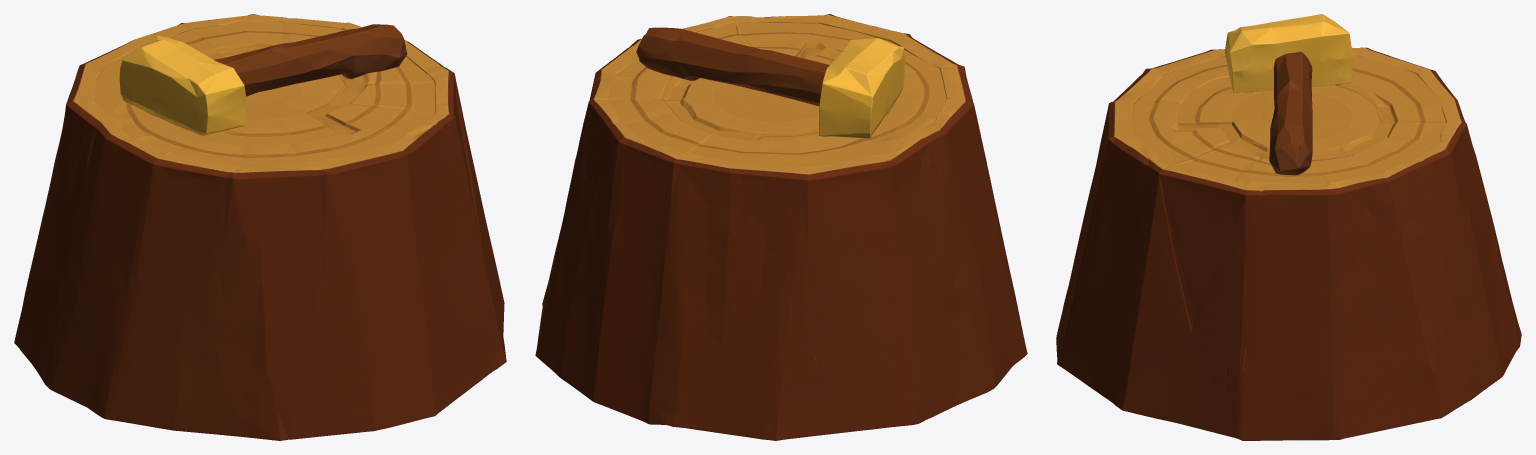
The model's file is carved-stump.glb.
3 views of the same model, side by side, from view 1: azimuth 30°, elevation 25°; view 2: azimuth 150°, elevation 25°; view 3: azimuth 270°, elevation 25° (orthographic). The views are drawn at different scales.
Visible parts, largest first — view 1: bridge-stump-carved-hammer; view 2: bridge-stump-carved-hammer; view 3: bridge-stump-carved-hammer.
Boxes of the visible parts, x1,y1,x2,y2 form: bridge-stump-carved-hammer: [14, 14, 506, 440]; bridge-stump-carved-hammer: [535, 14, 1027, 440]; bridge-stump-carved-hammer: [1056, 14, 1521, 440].
Bounding box in the file's own units: 1.16 × 0.7857 × 1.17.
Materials: 1 (1 with a texture image).
